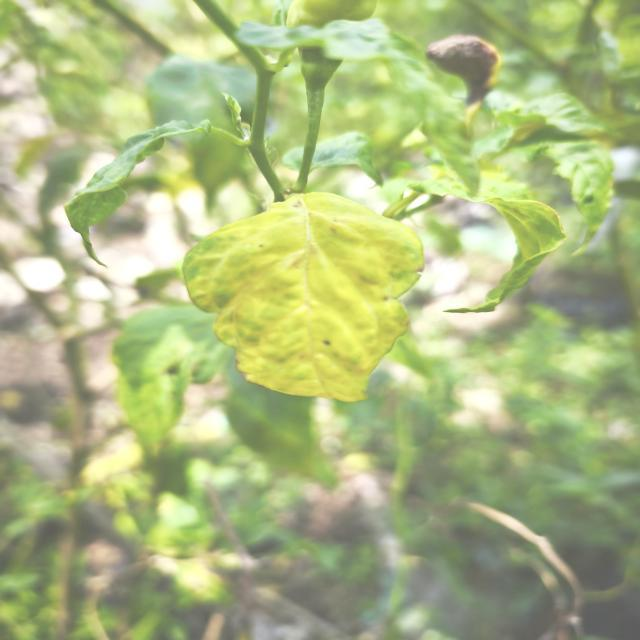Virus Kuning: (181, 191, 425, 402)
